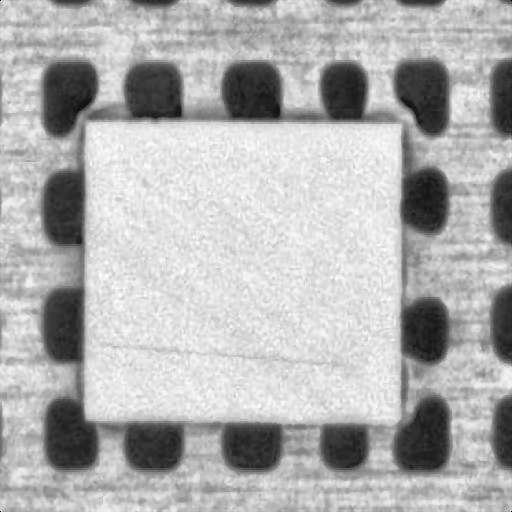DIE_CRACK: (133, 258, 452, 273)
